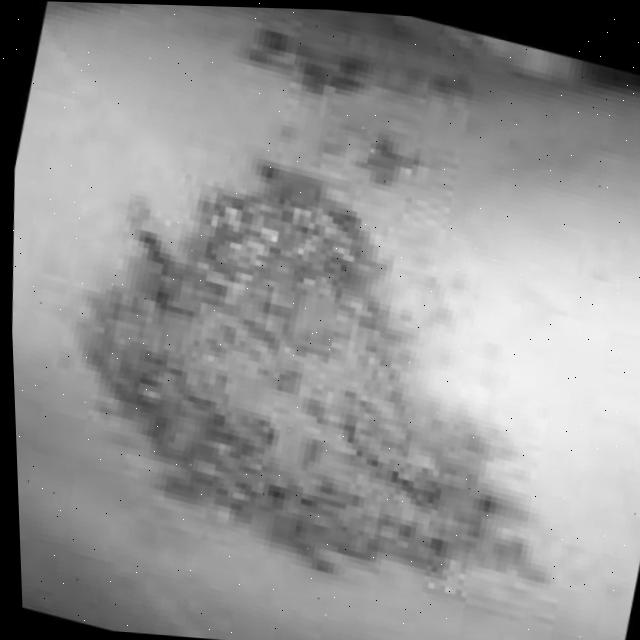Shingles: (75, 171, 525, 583), (235, 41, 427, 99)
